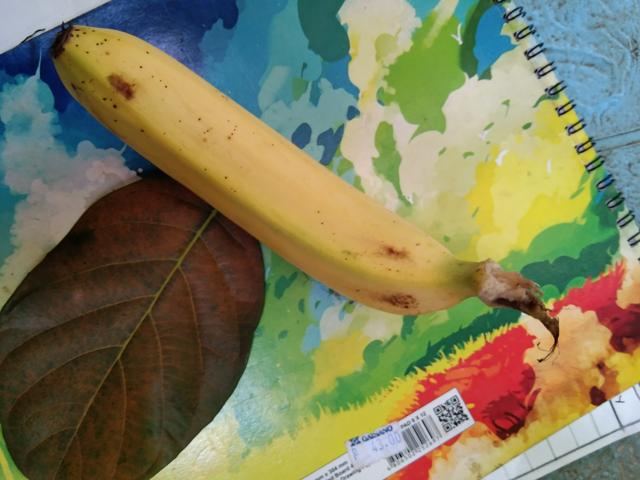ripe: (45, 19, 472, 323)
